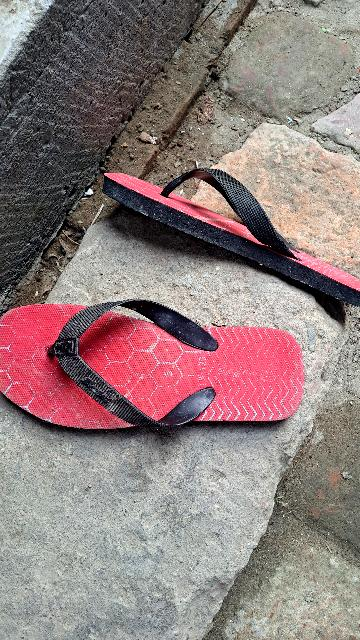sandal: (0, 288, 306, 463), (85, 148, 360, 326)
